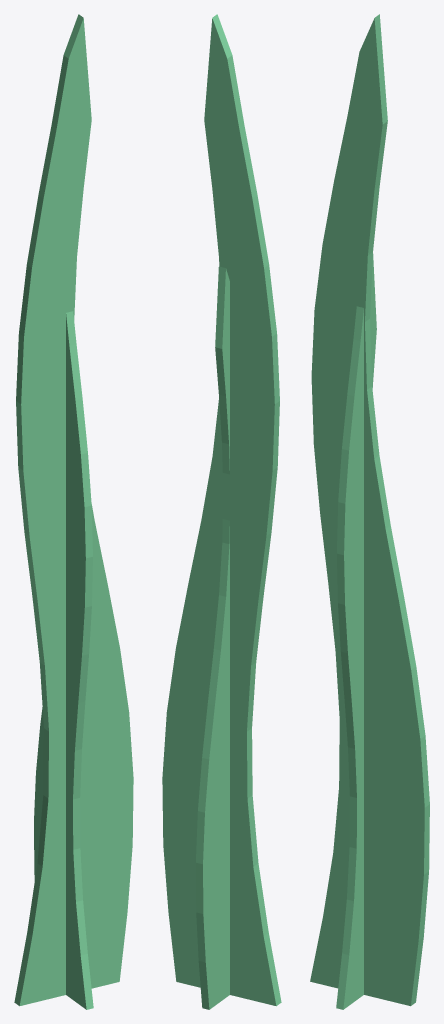
Rendered from seaweed.glb.
3 renders of one model, left to right at view 1: azimuth 30°, elevation 25°; view 2: azimuth 150°, elevation 25°; view 3: azimuth 330°, elevation 25°, orthographic.
Visible parts, largest first — view 1: Blade, Blade2; view 2: Blade, Blade2; view 3: Blade, Blade2.
Boxes of the visible parts, x1=… form: Blade: x1=14, y1=14, x2=133, y2=1006; Blade2: x1=34, y1=311, x2=93, y2=1009; Blade: x1=162, y1=14, x2=281, y2=1006; Blade2: x1=196, y1=266, x2=229, y2=1009; Blade: x1=310, y1=14, x2=429, y2=1006; Blade2: x1=336, y1=254, x2=376, y2=1009.
Bounding box in the file's own units: 0.6377 × 5.2 × 0.5102.
